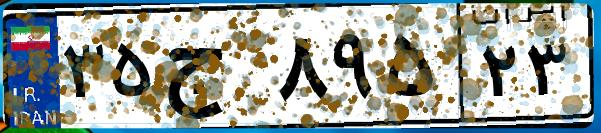2: (475, 38, 525, 113)
3: (57, 26, 110, 100), (525, 38, 570, 115)
5: (385, 28, 445, 110), (110, 28, 158, 98)
8: (270, 28, 330, 110)
9: (330, 28, 385, 110)
ج: (158, 20, 270, 120)
